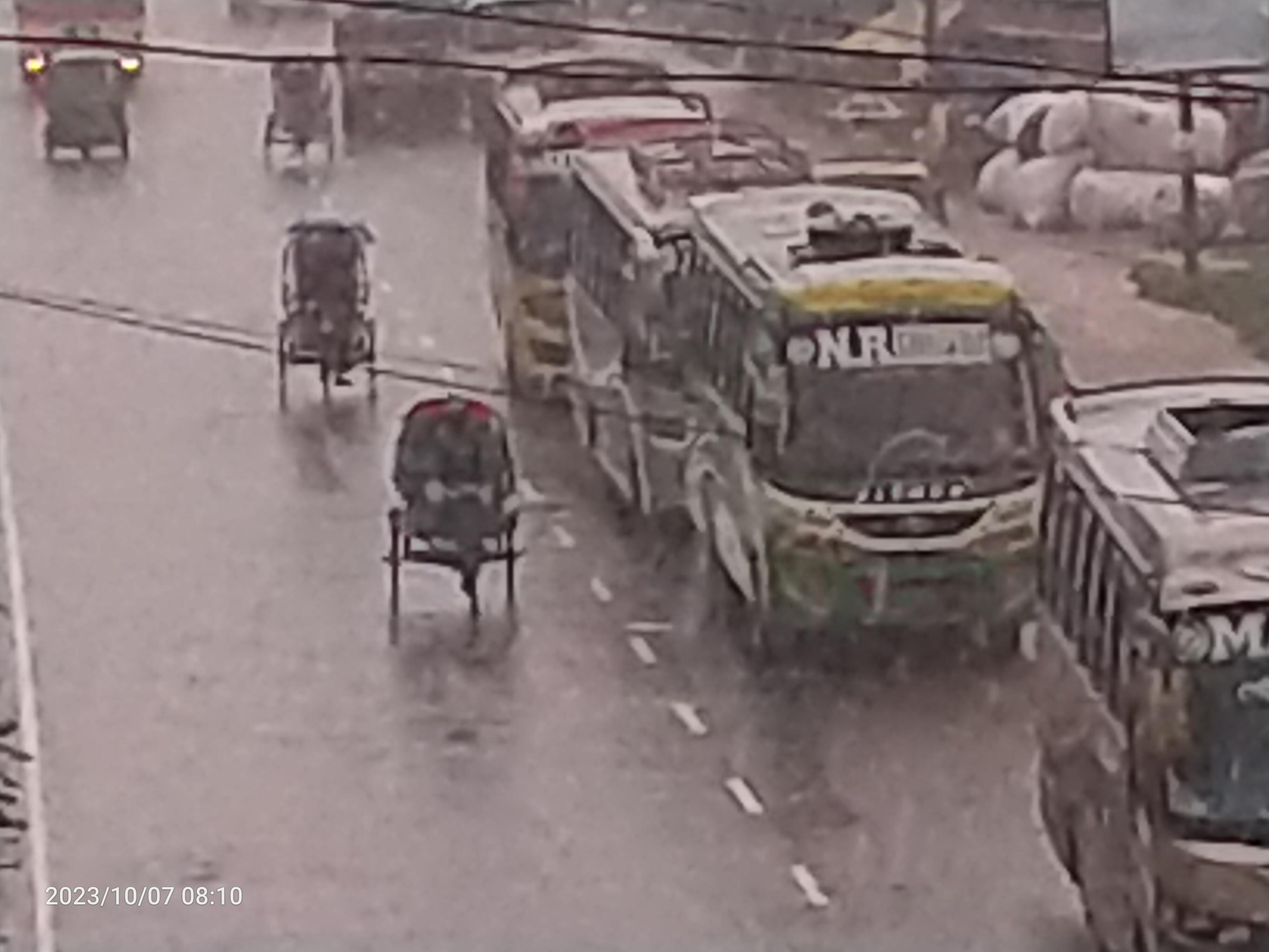Bus: (647, 170, 1063, 690), (996, 349, 1269, 952), (532, 134, 722, 524), (462, 50, 603, 432), (0, 0, 165, 96)
Car: (359, 373, 544, 651), (240, 198, 394, 427), (240, 33, 373, 187)
